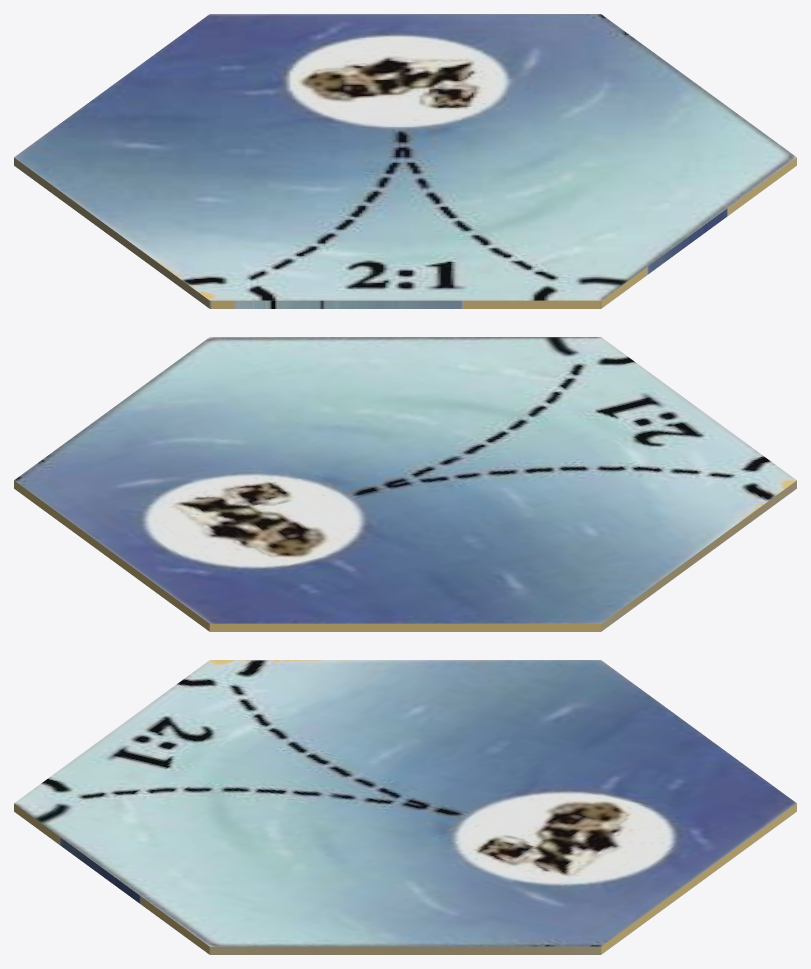
The model's file is trade_ore.obj.
The picture shows the model from 3 angles, top to bottom: view 1: azimuth 30°, elevation 25°; view 2: azimuth 150°, elevation 25°; view 3: azimuth 270°, elevation 25°; orthographic projection.
Visible parts, largest first — view 1: trade_ore; view 2: trade_ore; view 3: trade_ore.
Part boxes in pixels (x1,y1,x2,y2): trade_ore: (14,14,796,308); trade_ore: (14,337,796,631); trade_ore: (14,660,796,954).
Size of the model in its own units: 1.73 by 0.0232 by 2.
